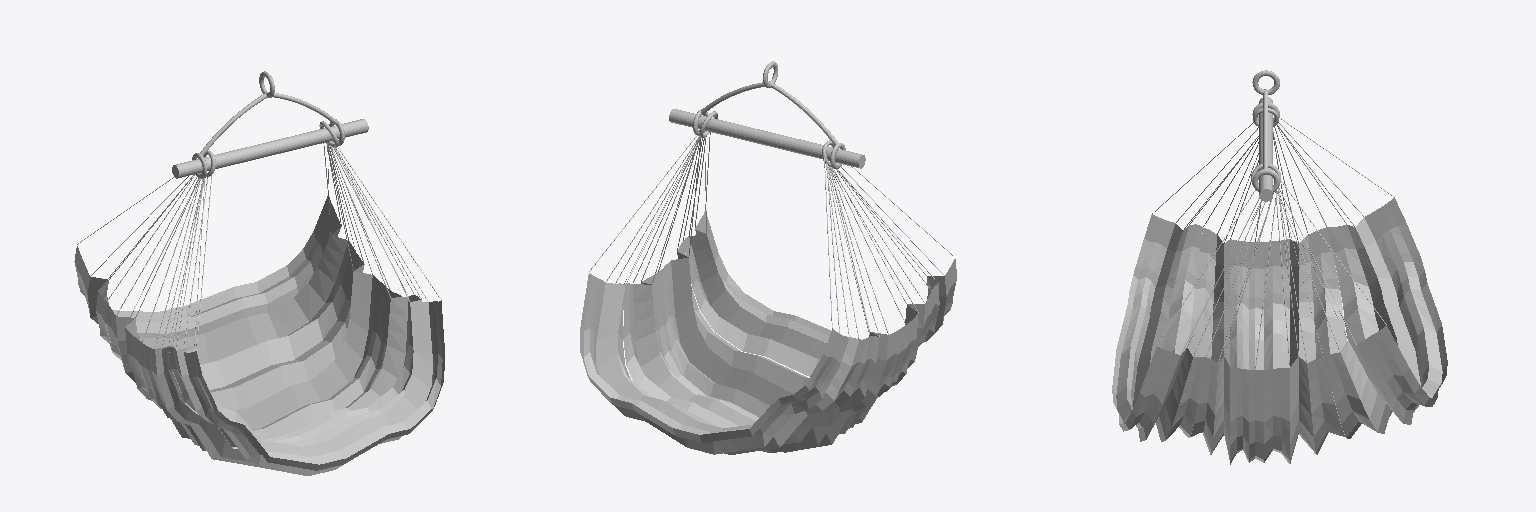
Rendered from Amaca.obj.
The picture shows the model from 3 angles: view 1: azimuth 30°, elevation 25°; view 2: azimuth 150°, elevation 25°; view 3: azimuth 270°, elevation 25°; orthographic projection.
Parts seen in each view (by area): view 1: Mesh26 Group10 Group3 Model, Mesh28 Group12 Group3 Model, Mesh27 Group11 Group3 Model, Mesh25 Group9 Group3 Model, Mesh2 Group2 Model, Mesh15 Group6 Group3 Model, Mesh17 Group7 Group3 Model, Mesh5 Group4 Group3 Model; view 2: Mesh26 Group10 Group3 Model, Mesh28 Group12 Group3 Model, Mesh25 Group9 Group3 Model, Mesh27 Group11 Group3 Model, Mesh2 Group2 Model, Mesh17 Group7 Group3 Model, Mesh15 Group6 Group3 Model; view 3: Mesh26 Group10 Group3 Model, Mesh28 Group12 Group3 Model, Mesh27 Group11 Group3 Model, Mesh25 Group9 Group3 Model, Mesh17 Group7 Group3 Model, Mesh2 Group2 Model.
Part boxes in pixels (left/top/right/bottom): Mesh26 Group10 Group3 Model: left=74, top=194, right=355, bottom=389; Mesh28 Group12 Group3 Model: left=106, top=253, right=389, bottom=445; Mesh27 Group11 Group3 Model: left=169, top=295, right=444, bottom=475; Mesh25 Group9 Group3 Model: left=143, top=290, right=414, bottom=466; Mesh2 Group2 Model: left=172, top=119, right=368, bottom=178; Mesh15 Group6 Group3 Model: left=200, top=93, right=336, bottom=155; Mesh17 Group7 Group3 Model: left=326, top=142, right=408, bottom=298; Mesh5 Group4 Group3 Model: left=161, top=178, right=204, bottom=349; Mesh26 Group10 Group3 Model: left=580, top=273, right=869, bottom=454; Mesh28 Group12 Group3 Model: left=623, top=272, right=905, bottom=452; Mesh25 Group9 Group3 Model: left=659, top=242, right=931, bottom=428; Mesh27 Group11 Group3 Model: left=683, top=211, right=956, bottom=376; Mesh2 Group2 Model: left=669, top=109, right=865, bottom=168; Mesh17 Group7 Group3 Model: left=615, top=137, right=700, bottom=284; Mesh15 Group6 Group3 Model: left=701, top=81, right=837, bottom=144; Mesh26 Group10 Group3 Model: left=1324, top=198, right=1447, bottom=438; Mesh28 Group12 Group3 Model: left=1255, top=227, right=1346, bottom=463; Mesh27 Group11 Group3 Model: left=1112, top=214, right=1205, bottom=441; Mesh25 Group9 Group3 Model: left=1188, top=228, right=1254, bottom=464; Mesh17 Group7 Group3 Model: left=1218, top=188, right=1347, bottom=369; Mesh2 Group2 Model: left=1259, top=97, right=1272, bottom=201.
Bounding box in the file's own units: 1168 × 1661 × 1347.